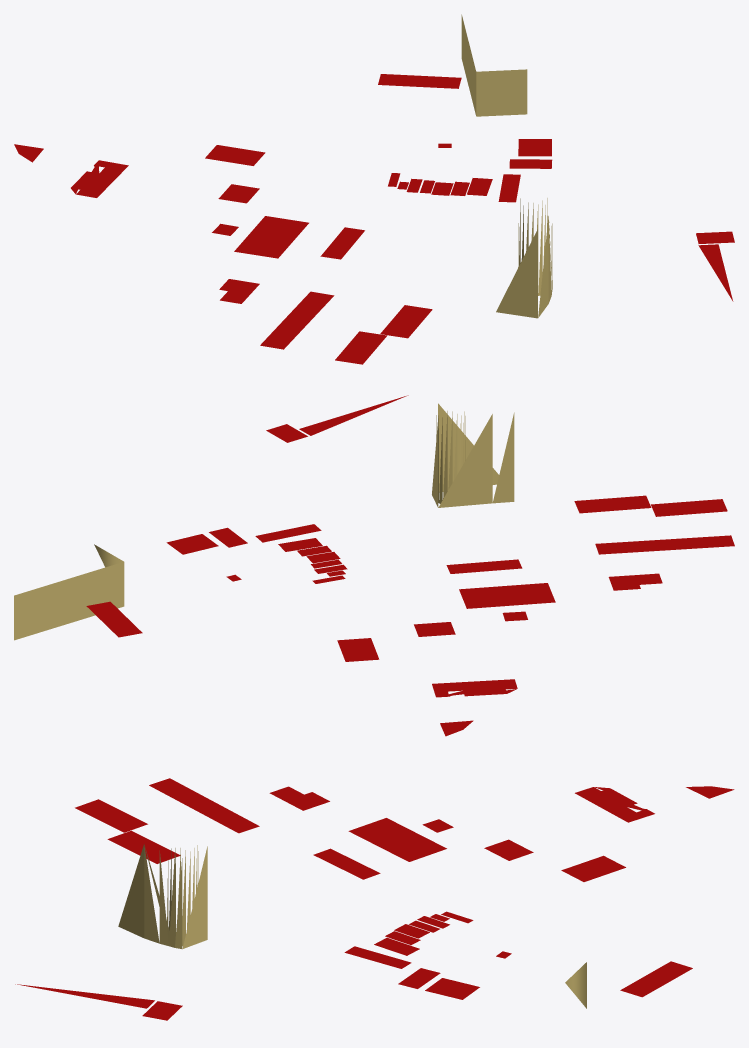
3 renders of one model, top to bottom at view 1: azimuth 30°, elevation 25°; view 2: azimuth 150°, elevation 25°; view 3: azimuth 270°, elevation 25°, orthographic. The views are drawn at different scales.
Bounding box in the file's own units: 231 × 42.5 × 275.
